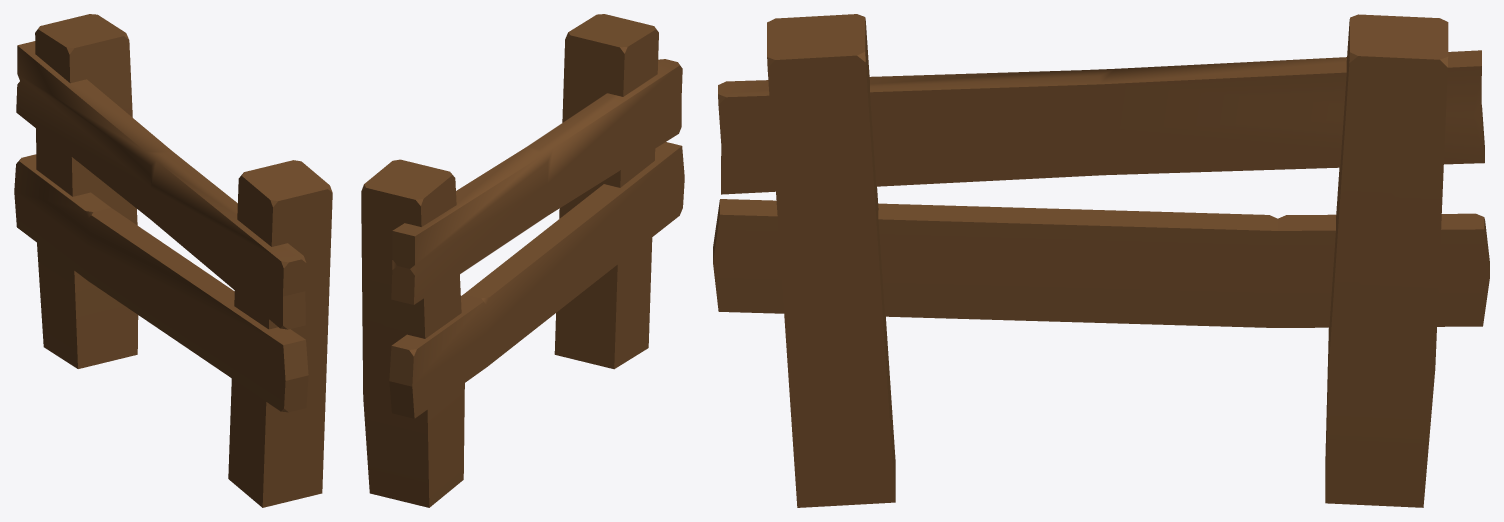
Rendered from env-wooden-fence-1.fbx.
3 renders of one model, left to right at view 1: azimuth 30°, elevation 25°; view 2: azimuth 150°, elevation 25°; view 3: azimuth 270°, elevation 25°, orthographic. The views are drawn at different scales.
Visible parts, largest first — view 1: cit.008; view 2: cit.008; view 3: cit.008.
Part boxes in pixels (left/top/right/bottom): cit.008: left=14, top=14, right=332, bottom=507; cit.008: left=361, top=14, right=684, bottom=507; cit.008: left=713, top=14, right=1489, bottom=507.
Size of the model in its own units: 24.14 by 106 by 165.
